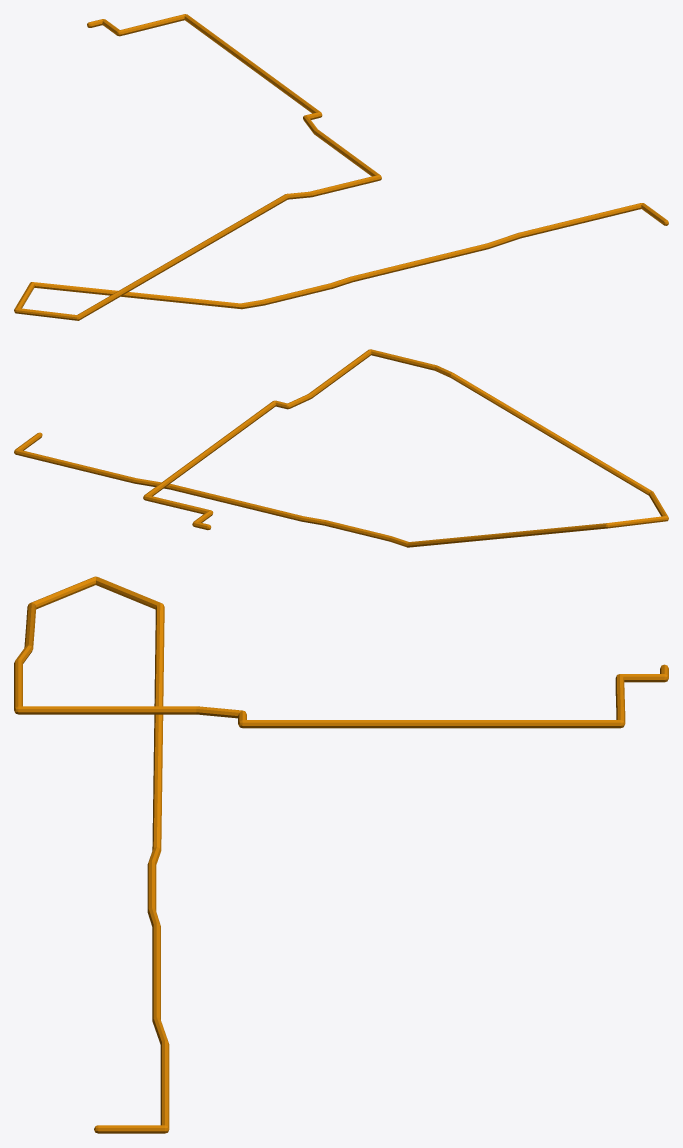
3 renders of one model, top to bottom at view 1: azimuth 30°, elevation 25°; view 2: azimuth 150°, elevation 25°; view 3: azimuth 270°, elevation 25°, orthographic. The views are drawn at different scales.
Size of the model in its own units: 2402 by 520 by 1472.
